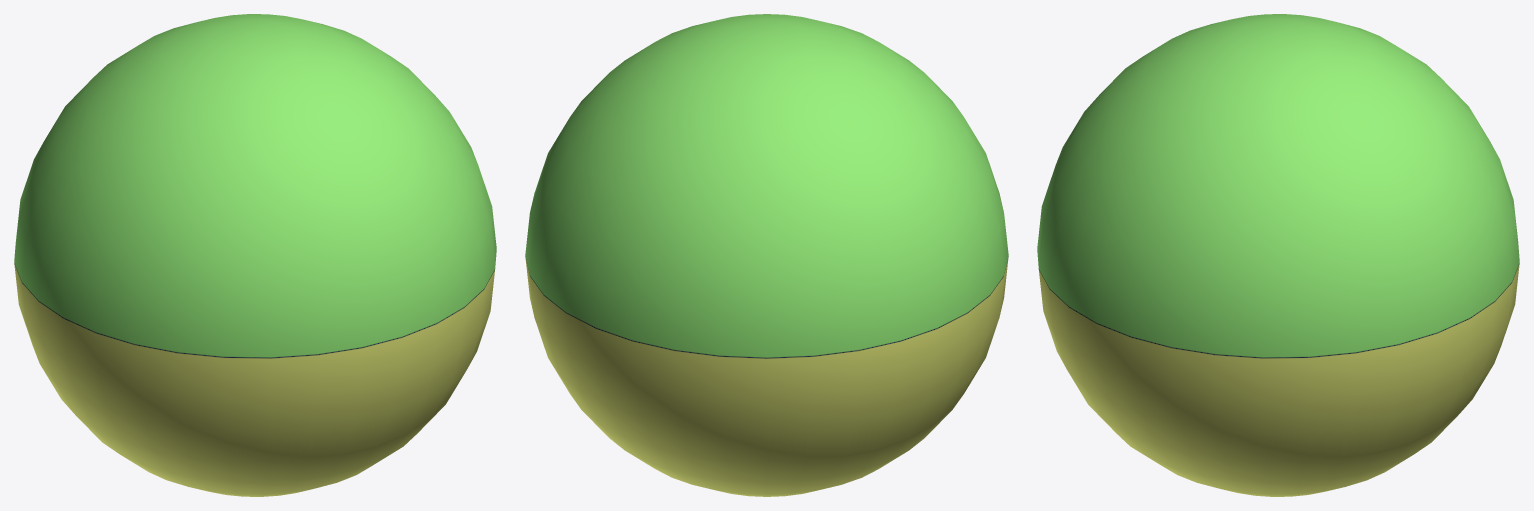
The model's file is snake_body.obj.
The picture shows the model from 3 angles, left to right: view 1: azimuth 30°, elevation 25°; view 2: azimuth 150°, elevation 25°; view 3: azimuth 270°, elevation 25°; orthographic projection.
Parts seen in each view (by area): view 1: Sphere; view 2: Sphere; view 3: Sphere.
Boxes of the visible parts, x1,y1,x2,y2 form: Sphere: (14, 14, 496, 496); Sphere: (525, 14, 1008, 496); Sphere: (1037, 14, 1519, 496).
Size of the model in its own units: 2 by 2 by 2.
Materials: 1 (1 with a texture image).
